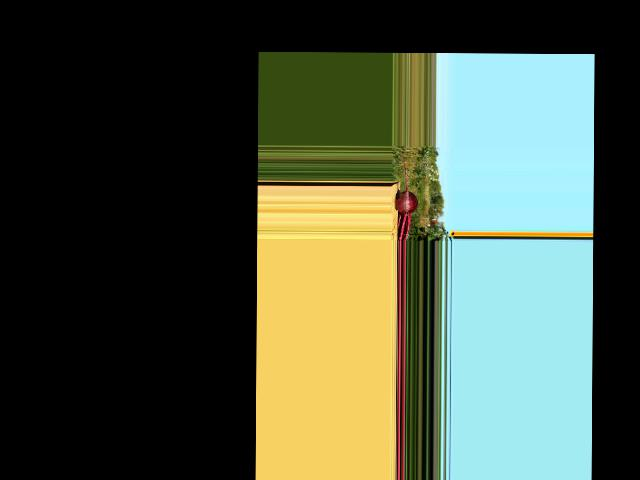beet: (394, 149, 417, 241)
